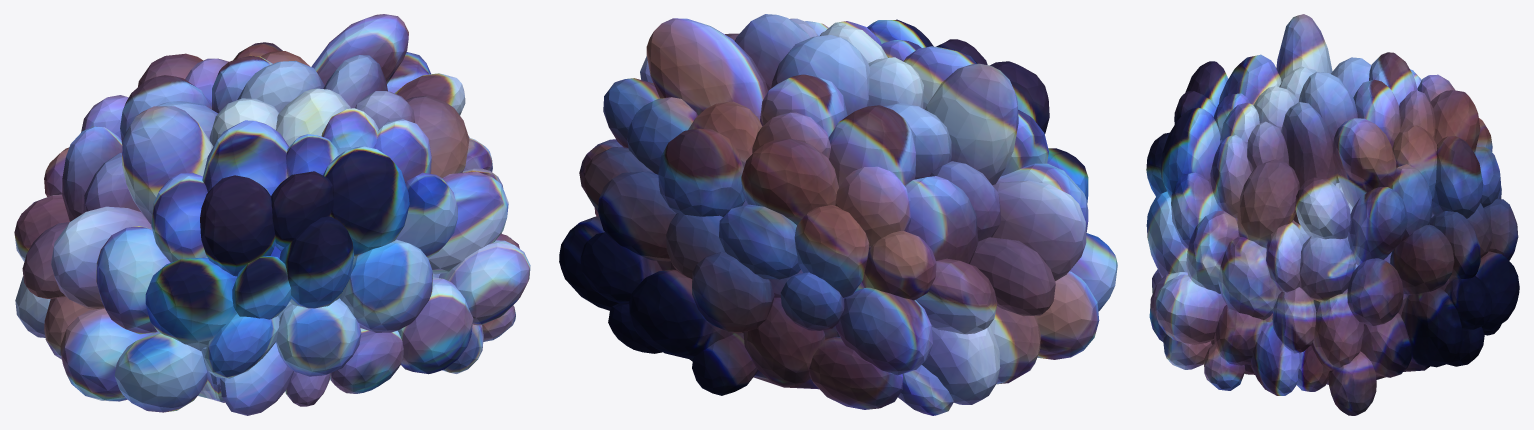
File: bubblecoral1.dae
3 renders of one model, left to right at view 1: azimuth 30°, elevation 25°; view 2: azimuth 150°, elevation 25°; view 3: azimuth 270°, elevation 25°, orthographic. The views are drawn at different scales.
Visible parts, largest first — view 1: _1489_Bubble_coral_v1_v4_001_001; view 2: _1489_Bubble_coral_v1_v4_001_001; view 3: _1489_Bubble_coral_v1_v4_001_001.
Boxes of the visible parts, box(x1,y1,x2,y2) form: _1489_Bubble_coral_v1_v4_001_001: box(14, 14, 530, 415); _1489_Bubble_coral_v1_v4_001_001: box(559, 14, 1117, 415); _1489_Bubble_coral_v1_v4_001_001: box(1146, 14, 1519, 415).
Bounding box in the file's own units: 110 × 82.78 × 61.79.
1 material, 1 textured.
